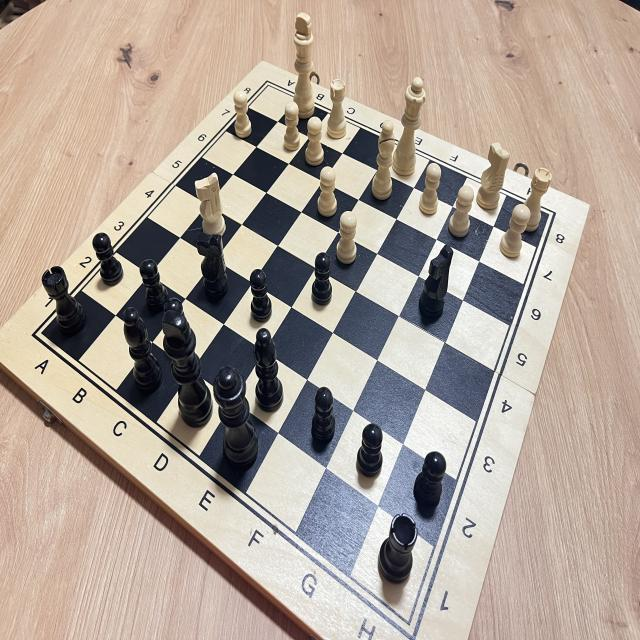black-bishop: (116, 302, 167, 399), (245, 322, 292, 419)
black-king: (160, 316, 212, 432)
black-knight: (191, 228, 236, 312), (414, 239, 456, 321)
black-pawn: (410, 441, 452, 513), (155, 288, 190, 361), (87, 227, 127, 289), (136, 255, 171, 325), (351, 417, 386, 482), (307, 381, 339, 451), (305, 248, 337, 312), (244, 269, 279, 327)
black-queen: (207, 358, 263, 484)
black-rook: (39, 259, 87, 340), (374, 503, 418, 588)
white-bishop: (364, 117, 402, 209)
white-king: (288, 10, 317, 120)
white-knight: (190, 166, 229, 250), (474, 135, 512, 214)
white-pawn: (496, 201, 531, 264), (444, 182, 478, 242), (228, 84, 257, 148), (301, 111, 332, 170), (414, 159, 444, 219), (332, 210, 361, 270), (313, 160, 342, 219), (279, 95, 304, 158)
white-queen: (392, 65, 428, 182)
white-rook: (518, 162, 555, 240), (326, 75, 354, 144)
